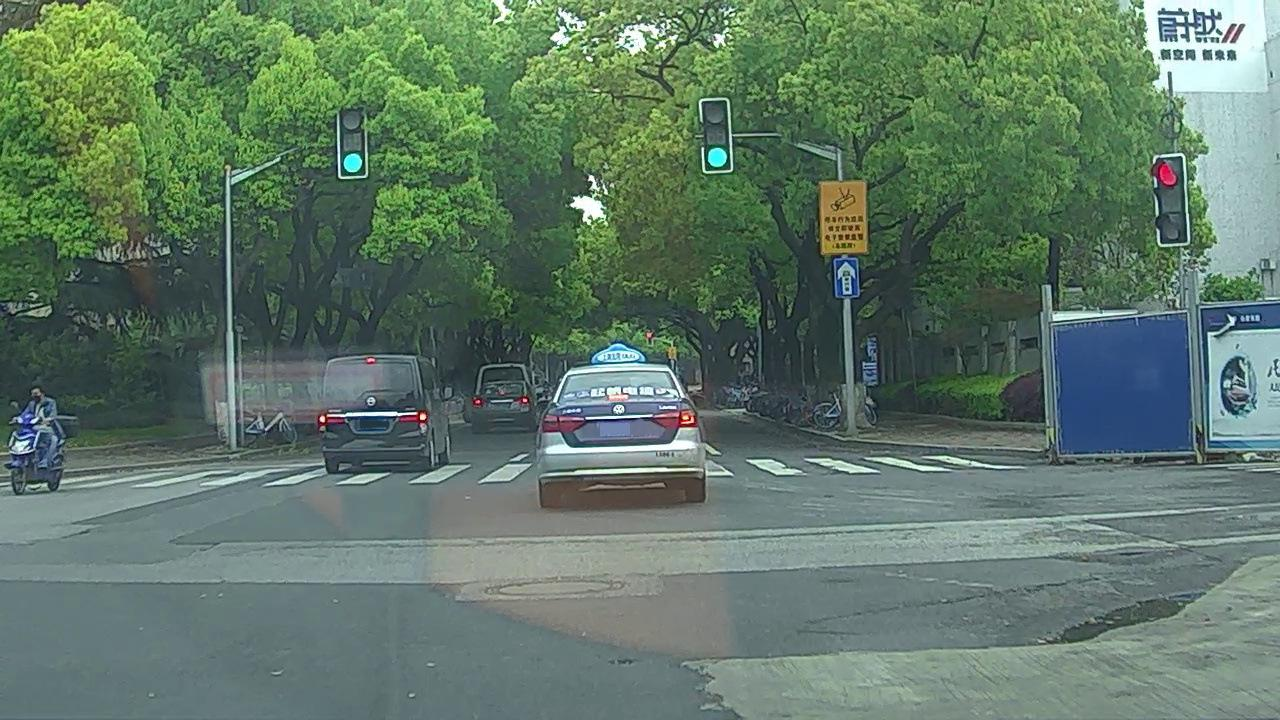traffic_light: (702, 102, 733, 172), (340, 106, 367, 177)
